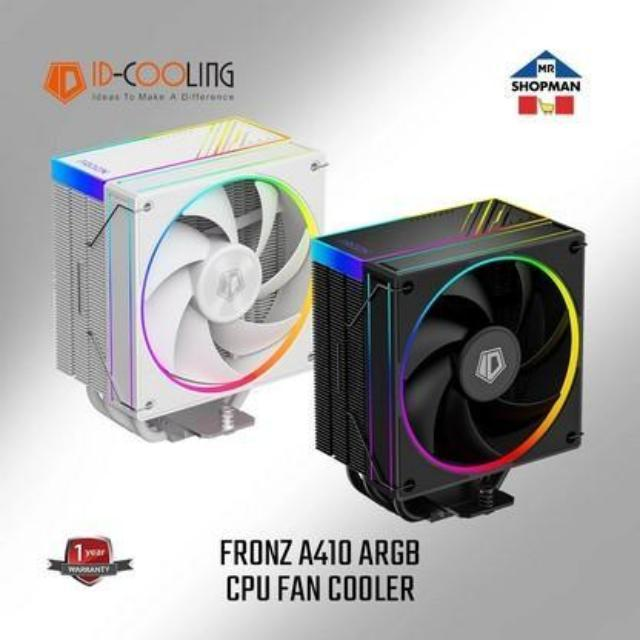CPU_Fan: (49, 112, 316, 442), (318, 198, 586, 520)
